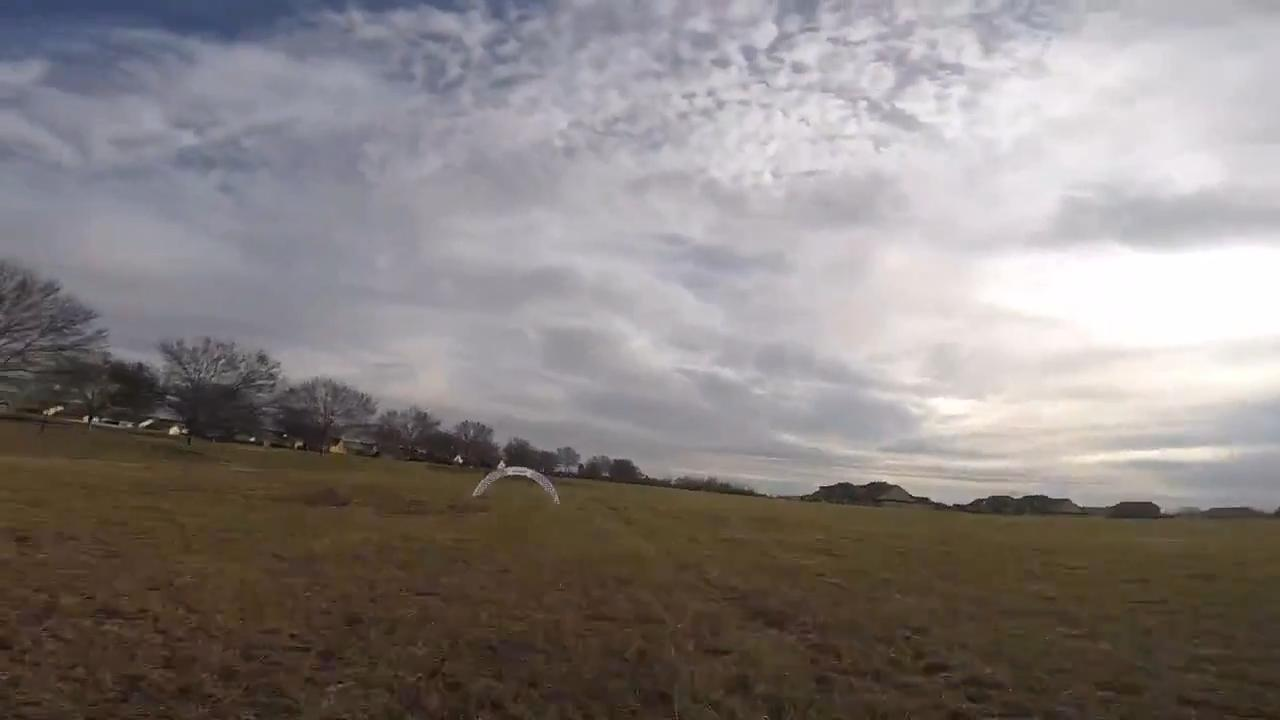gate: (468, 463, 560, 505)
